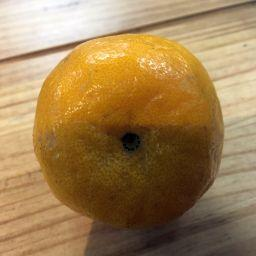Ripe: (33, 31, 227, 227)
